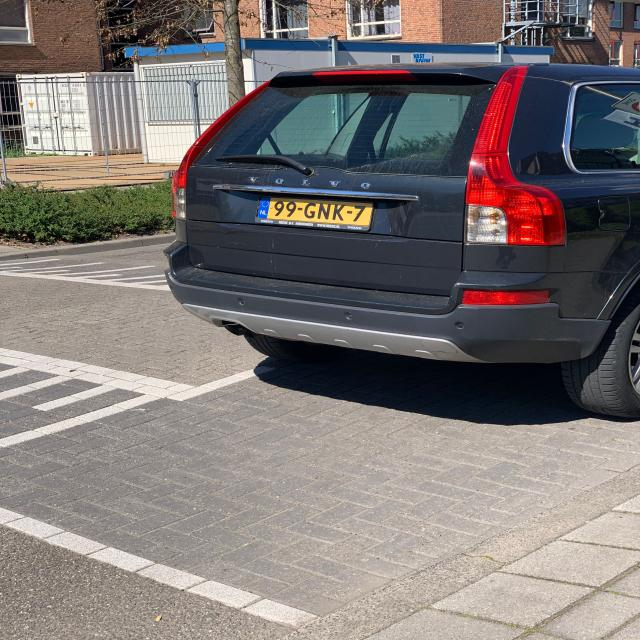plate: (253, 195, 375, 232)
